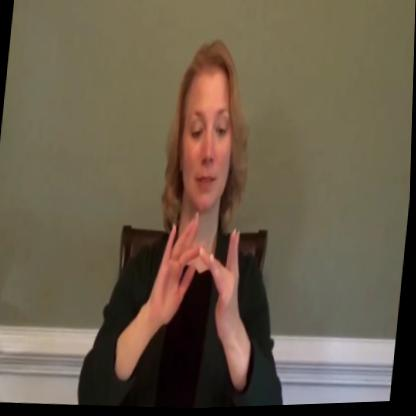Internet: (143, 212, 257, 349)
